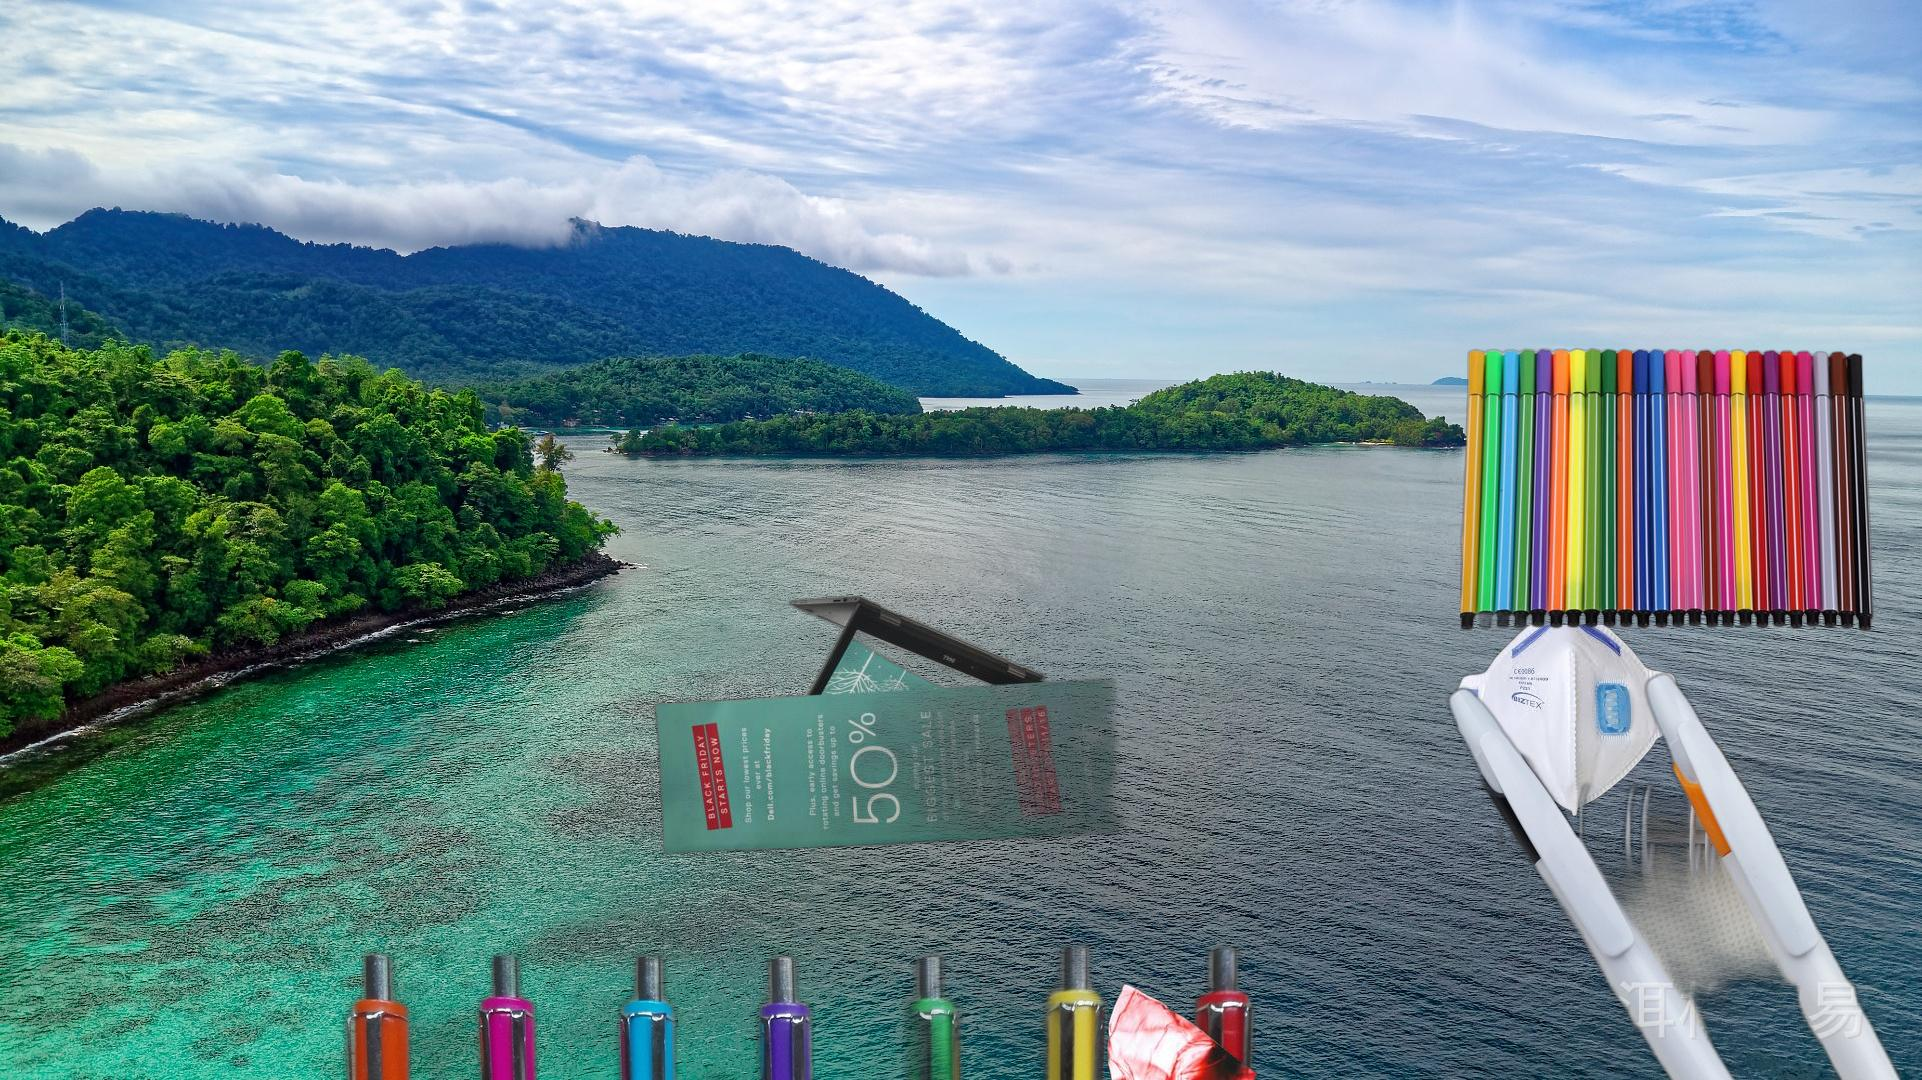metal-cans: (1775, 834, 1922, 1080)
paper: (649, 593, 1130, 881)
penholder: (304, 819, 1304, 1080), (1434, 667, 1922, 1080), (1460, 345, 1877, 650)
plastic-bag: (1104, 982, 1259, 1080)
trash: (1455, 624, 1680, 819)
